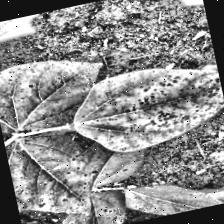ALS: (66, 51, 224, 163), (4, 126, 108, 224), (0, 48, 104, 136), (125, 163, 224, 222)
